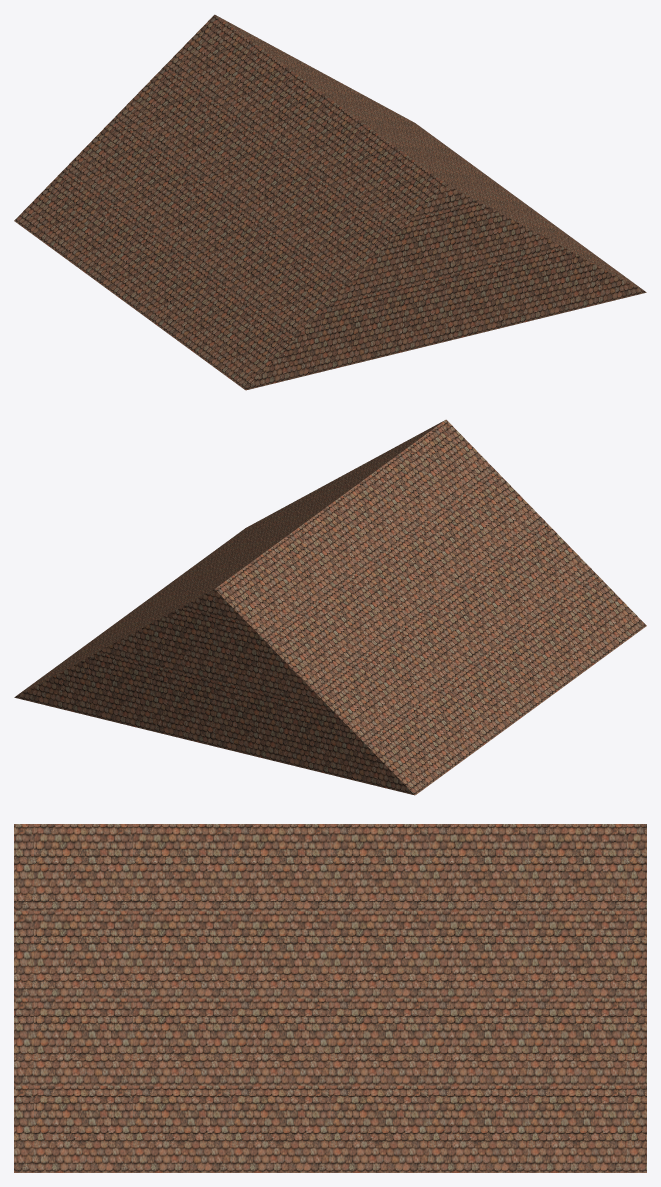
File: Castle_Gable_Roof_6m.glb
3 views of the same model, one above another, from view 1: azimuth 30°, elevation 25°; view 2: azimuth 150°, elevation 25°; view 3: azimuth 270°, elevation 25° (orthographic). The views are drawn at different scales.
Visible parts, largest first — view 1: gable_roof; view 2: gable_roof; view 3: gable_roof.
Part boxes in pixels (box(x1,y1,x2,y2)): gable_roof: box(14, 14, 646, 390); gable_roof: box(14, 419, 646, 795); gable_roof: box(14, 824, 646, 1172).
Size of the model in its own units: 6.4 by 2.4 by 6.4.
Materials: 1 (1 with a texture image).
